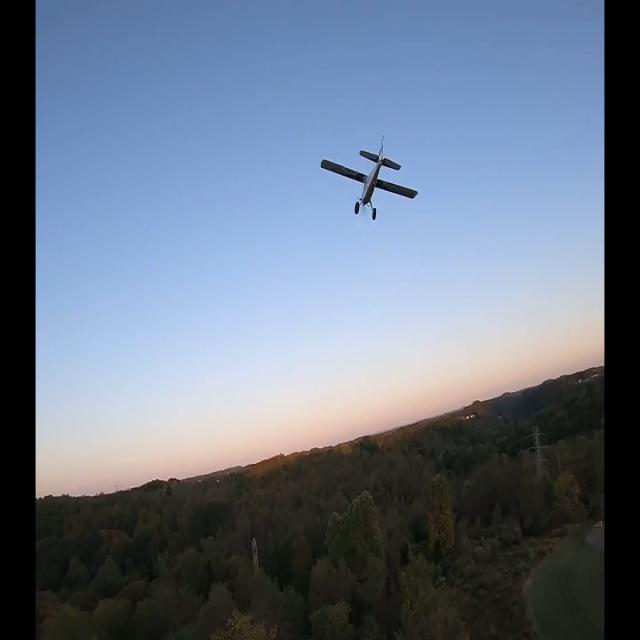iha: (352, 168, 385, 200)
